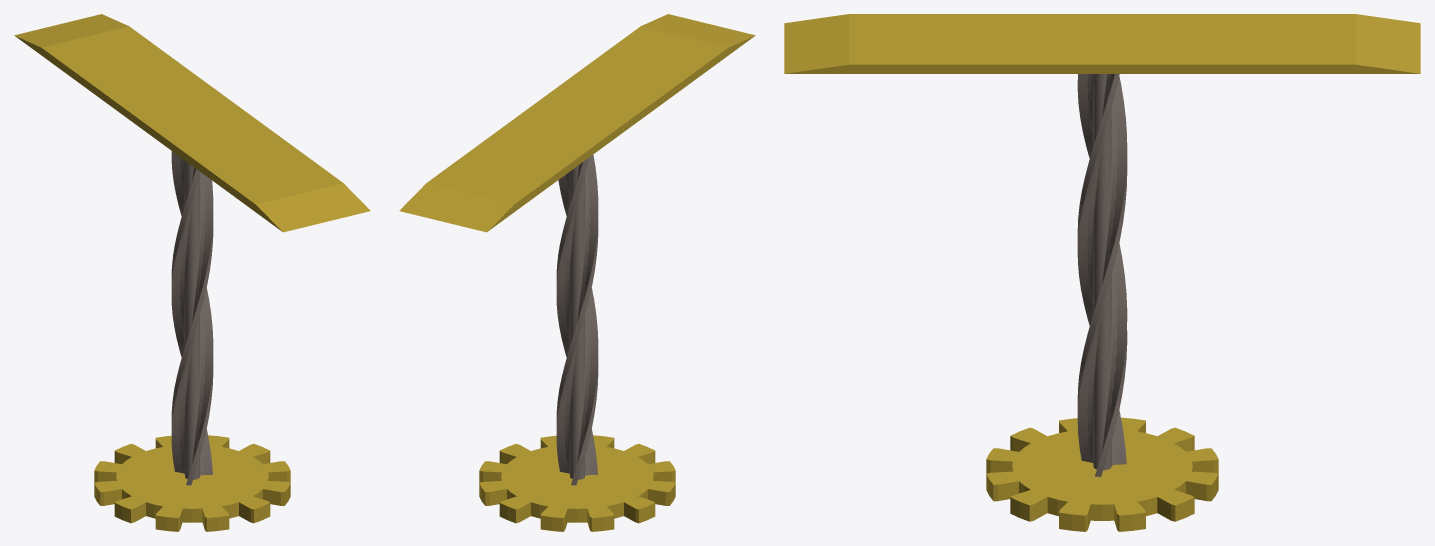
Rendered from rot8_knockout.gltf.
3 renders of one model, left to right at view 1: azimuth 30°, elevation 25°; view 2: azimuth 150°, elevation 25°; view 3: azimuth 270°, elevation 25°, orthographic. The views are drawn at different scales.
Visible parts, largest first — view 1: rot8.knockout; view 2: rot8.knockout; view 3: rot8.knockout.
Boxes of the visible parts, left/top/right/bottom form: rot8.knockout: left=14, top=14, right=370, bottom=531; rot8.knockout: left=399, top=14, right=755, bottom=531; rot8.knockout: left=784, top=14, right=1420, bottom=531.
Size of the model in its own units: 10.29 by 21.69 by 28.21.
